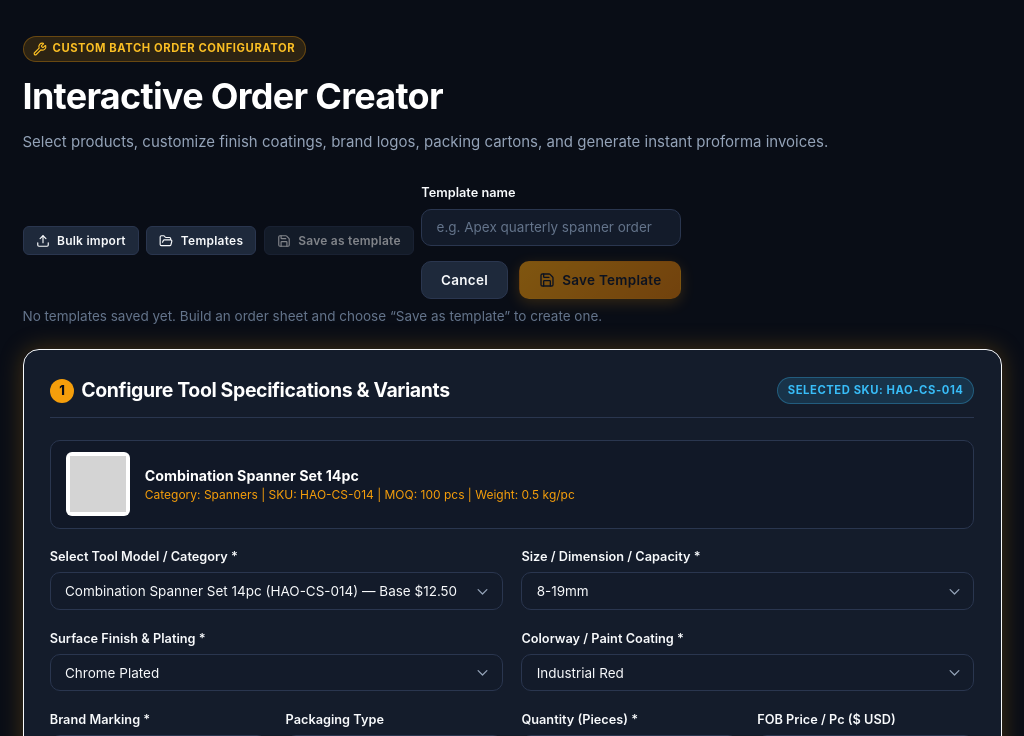
Test: OrderCreatorPage templates (FE-12) › uses a template: create-order result loads into the creator for editing
The width and height of the screenshot is (1024, 736).
Click the button "Templates" at (201, 241), box x1=146 y1=226 x2=256 y2=255
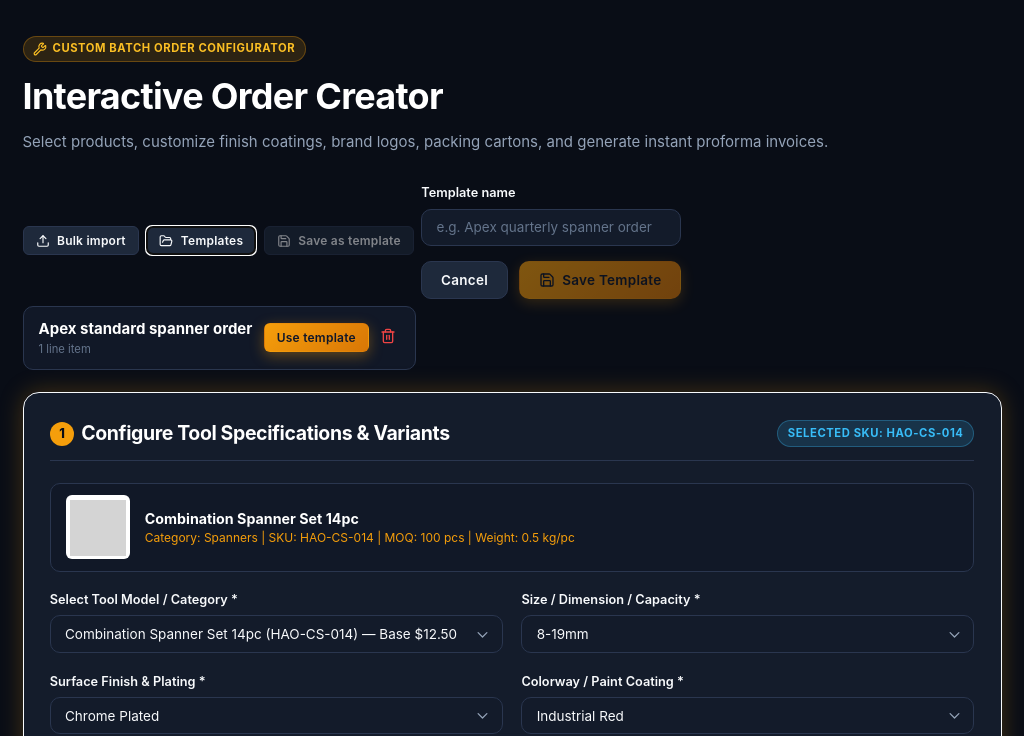
Check: the text "Apex standard spanner order" is shown, box x1=38 y1=318 x2=252 y2=341
Click the button "Use template" at (316, 338), box x1=264 y1=323 x2=369 y2=352
(page scrolled)
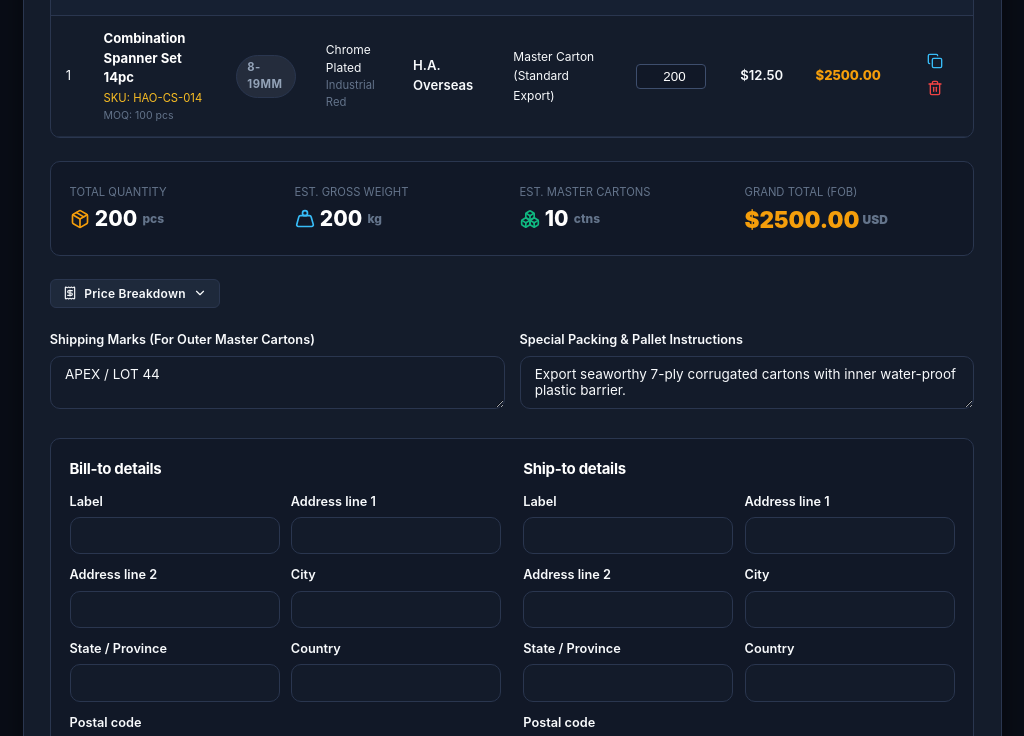
Check: the row that starts with "Combination Spanner Set 14pc" is shown, box x1=104 y1=30 x2=186 y2=85
Check: the 1st text box showing "APEX / LOT 44" is shown, box x1=50 y1=356 x2=505 y2=409
